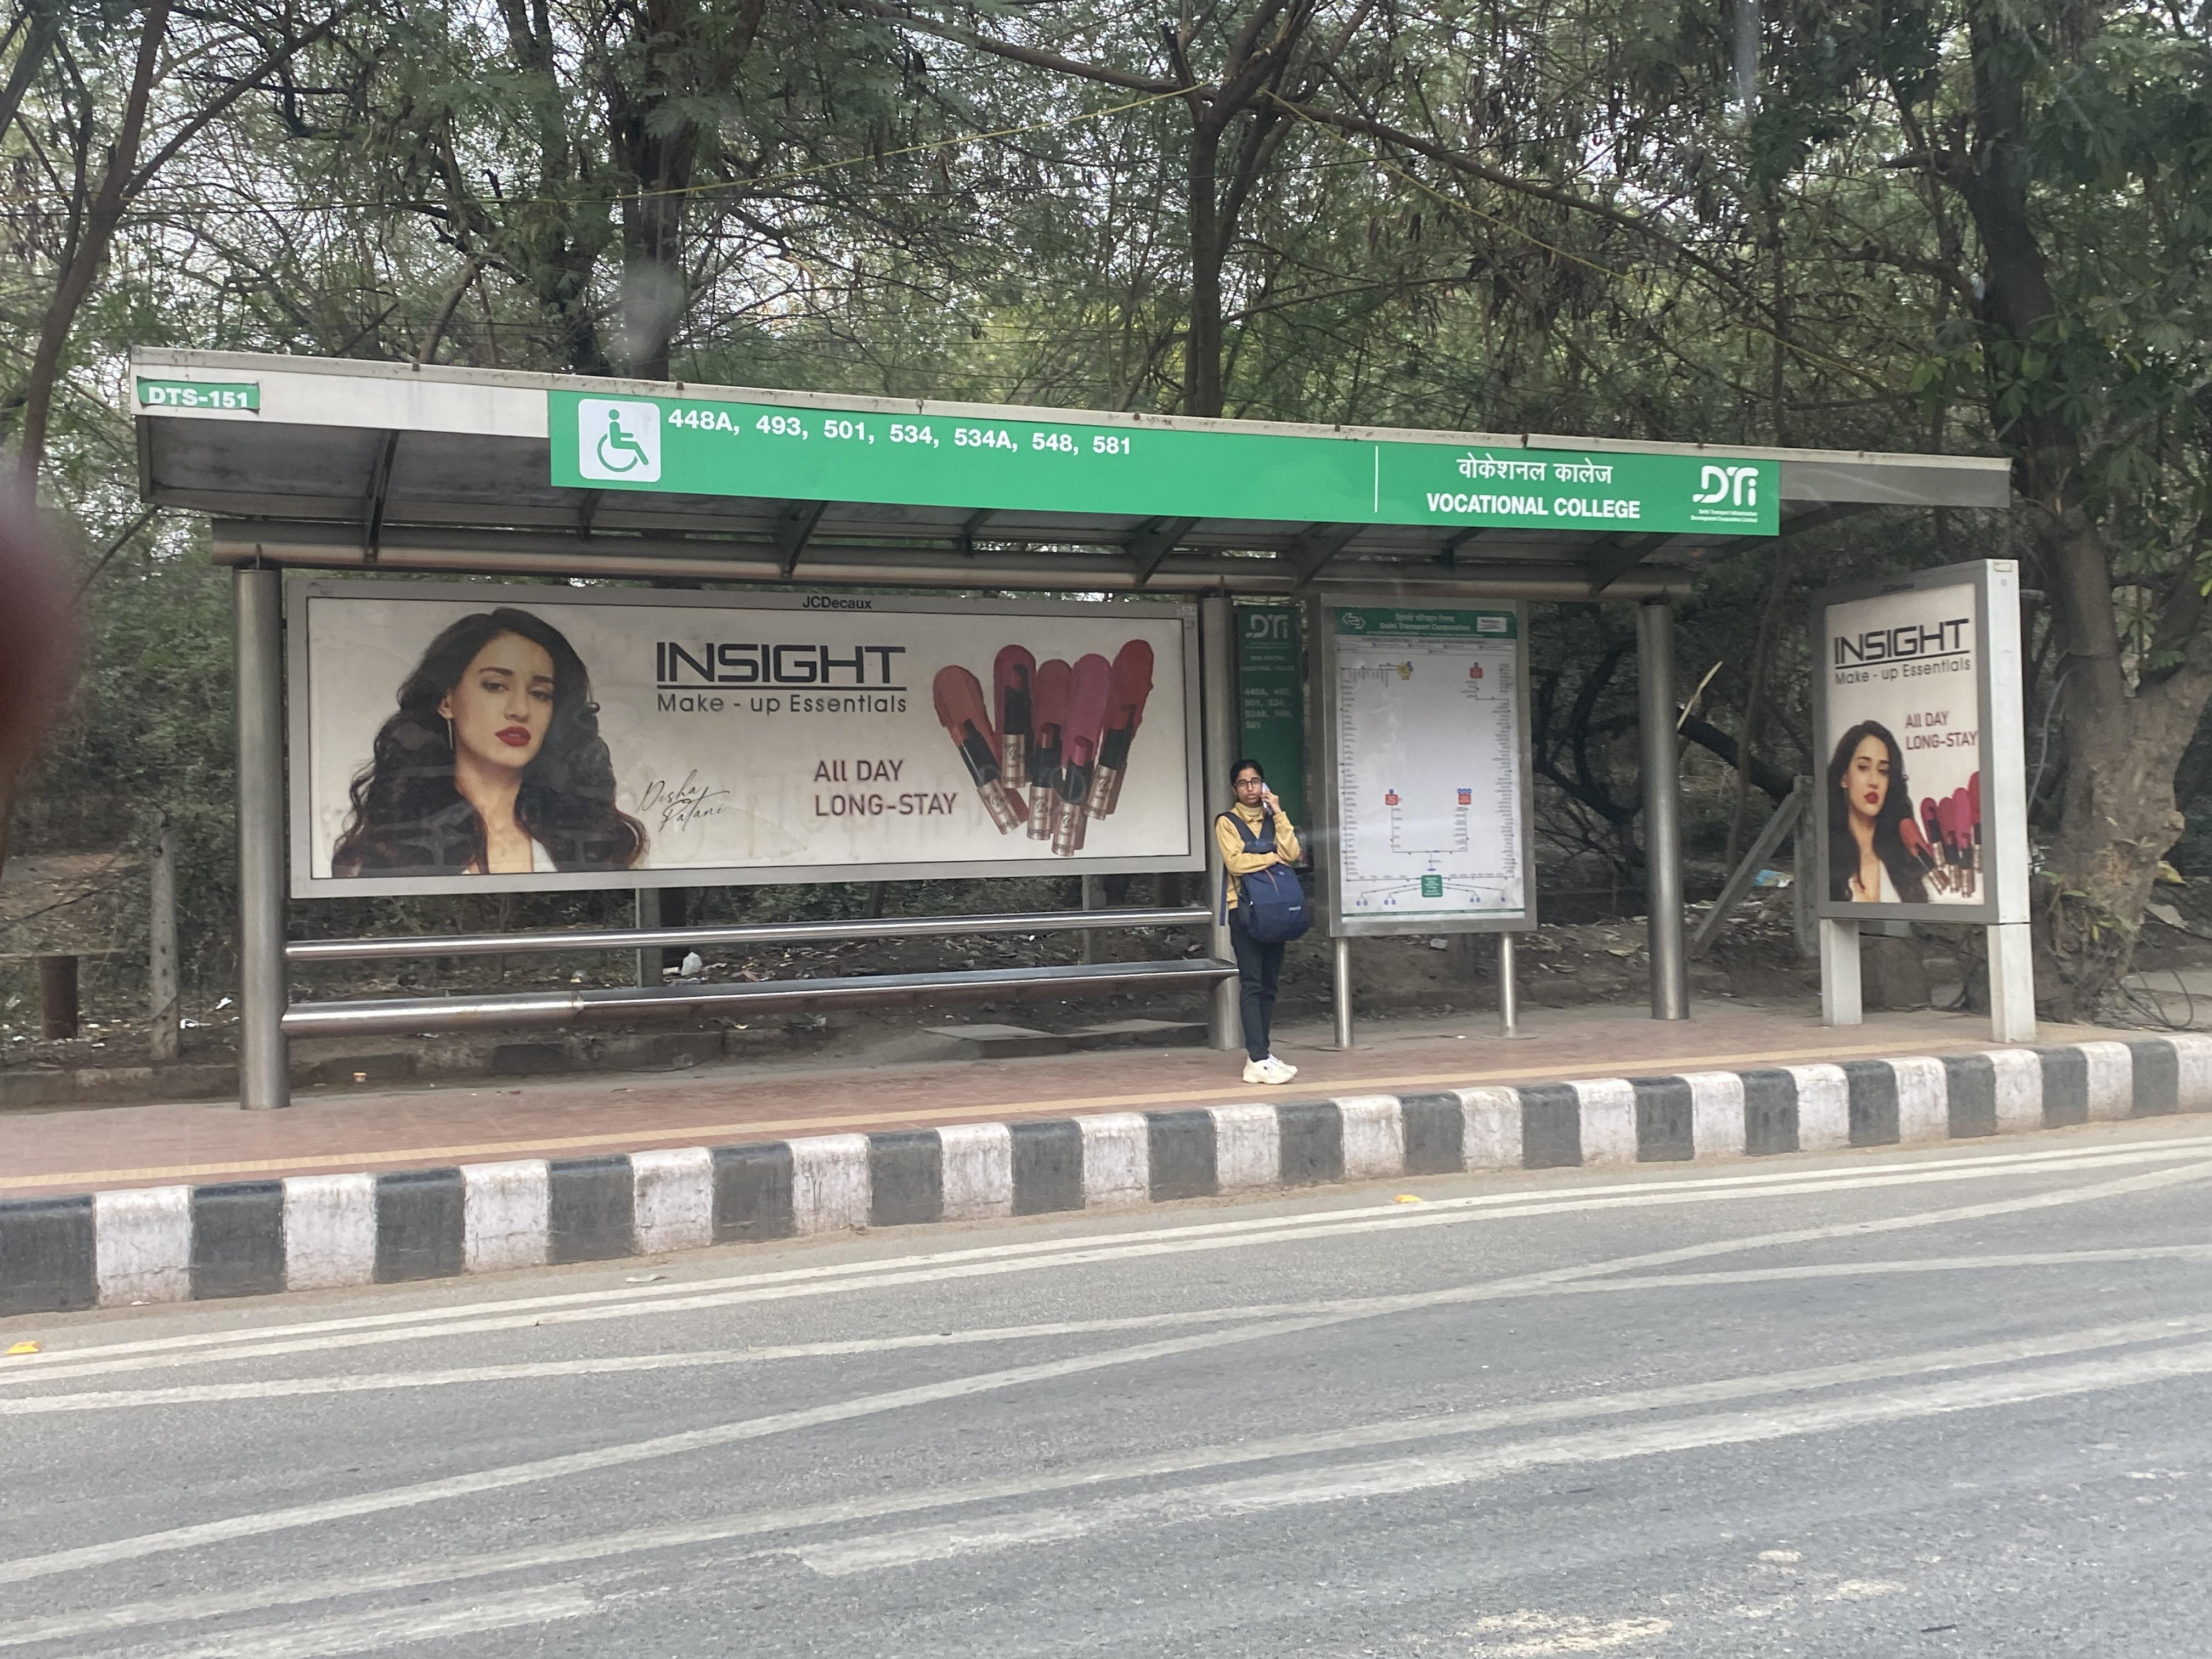Bus-stop-board: (554, 383, 1810, 559)
